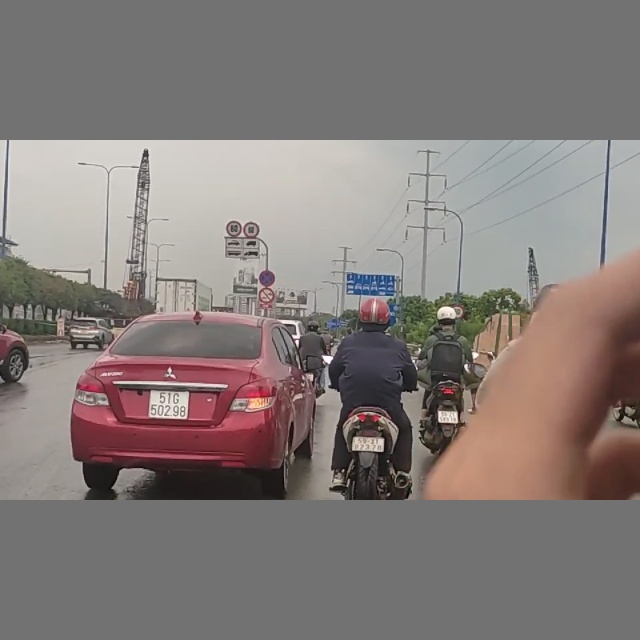P.127*60: (238, 220, 260, 238)
P.130: (258, 270, 275, 286)
